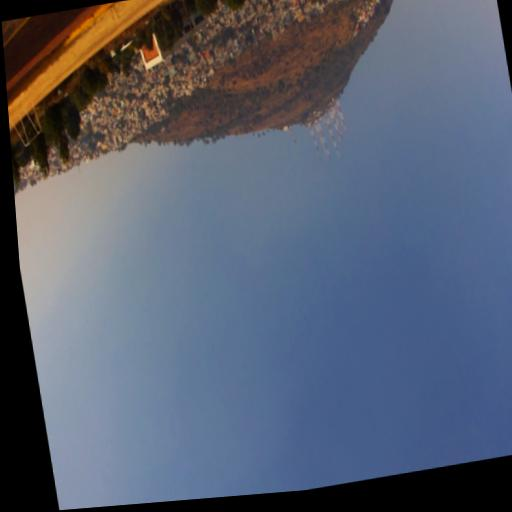drones: (284, 92, 289, 97)
